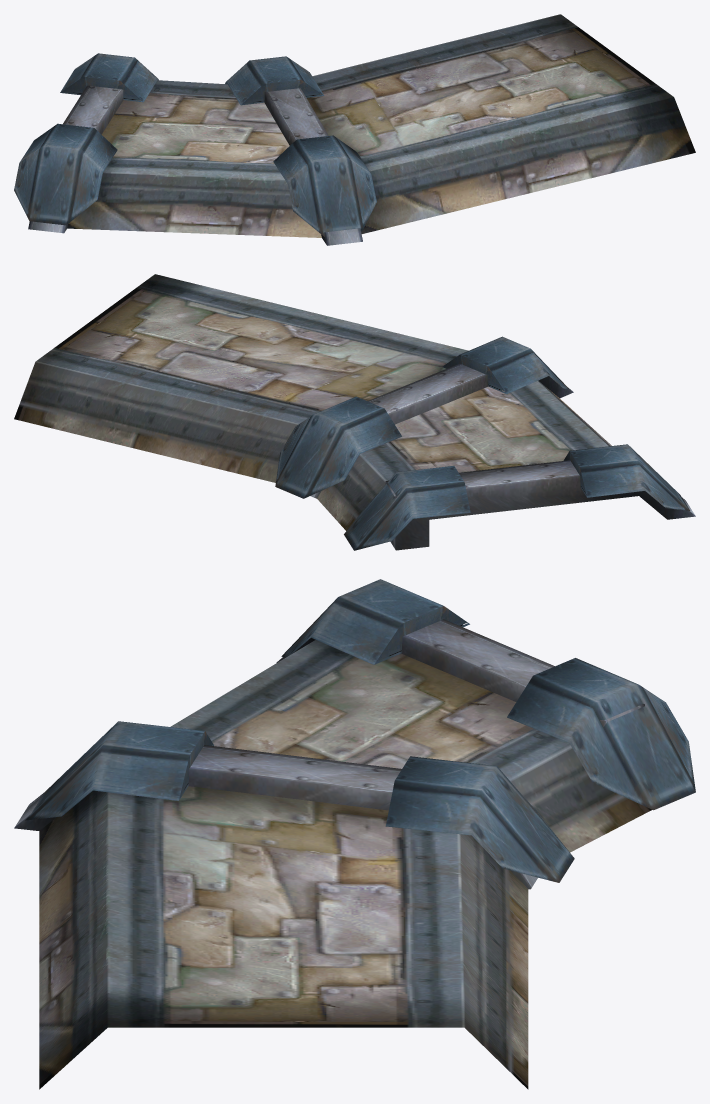
Rendered from obj_madaprroad45r.glb.
3 views of the same model, one above another, from view 1: azimuth 30°, elevation 25°; view 2: azimuth 150°, elevation 25°; view 3: azimuth 270°, elevation 25° (orthographic). The views are drawn at different scales.
Parts seen in each view (by area): view 1: part_0; view 2: part_0; view 3: part_0.
Boxes of the visible parts, box(x1,y1,x2,y2) form: part_0: box(14, 14, 695, 245); part_0: box(14, 274, 695, 550); part_0: box(14, 579, 695, 1089).
Bounding box in the file's own units: 11.8 × 1.15 × 7.65.
Materials: 1 (1 with a texture image).
